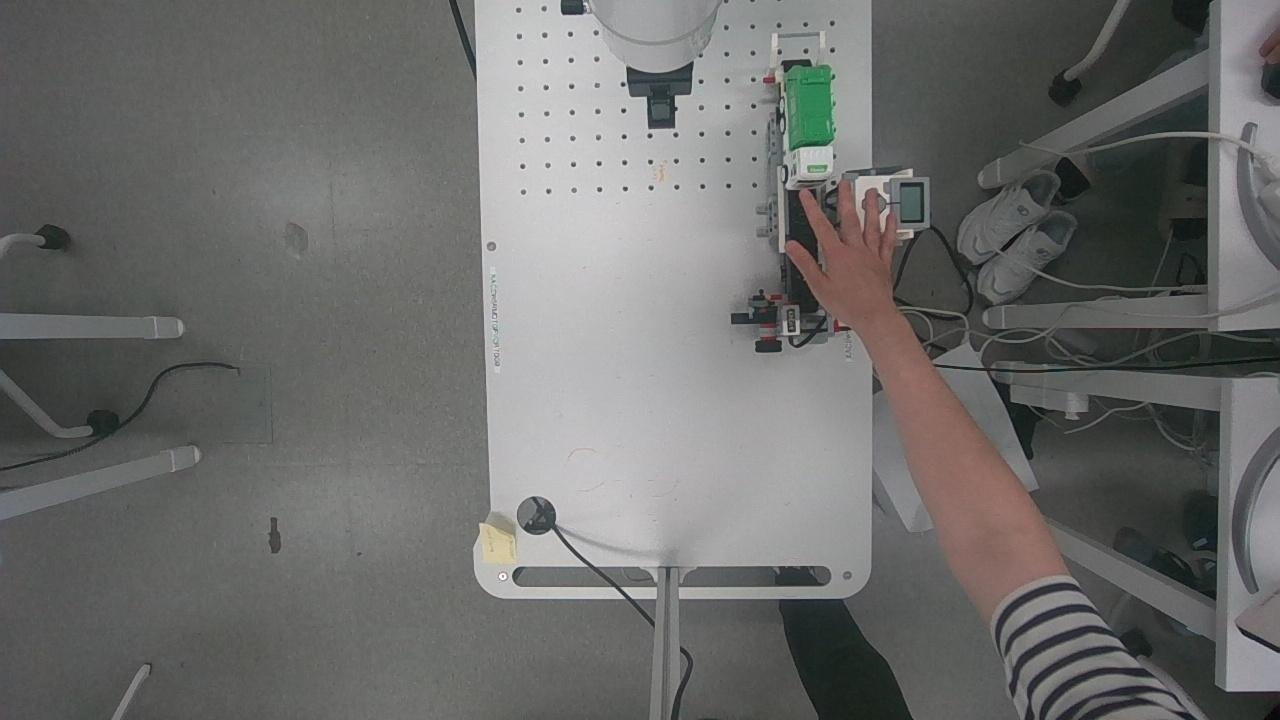truck: (759, 54, 848, 195)
